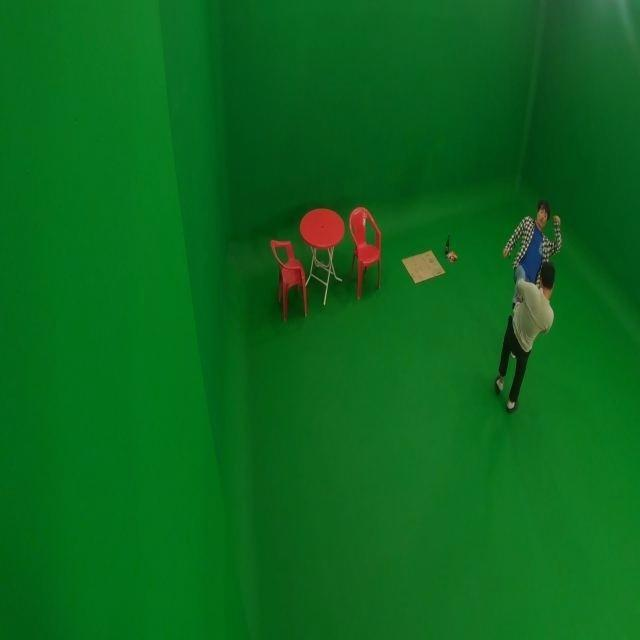fight: (491, 198, 564, 412)
